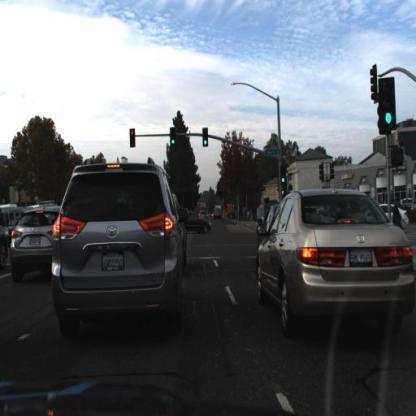car: (59, 162, 189, 340), (256, 187, 411, 335), (11, 206, 64, 283), (253, 203, 272, 252), (181, 209, 214, 236), (383, 201, 410, 233), (376, 205, 410, 230), (200, 208, 208, 220)
pedestrian: (391, 202, 407, 233)
trafficLight: (379, 77, 401, 140), (201, 124, 211, 153), (168, 125, 178, 149), (128, 130, 137, 153), (170, 130, 178, 153), (280, 168, 288, 191), (202, 129, 210, 148)
truck: (2, 196, 45, 242), (212, 203, 224, 220)
